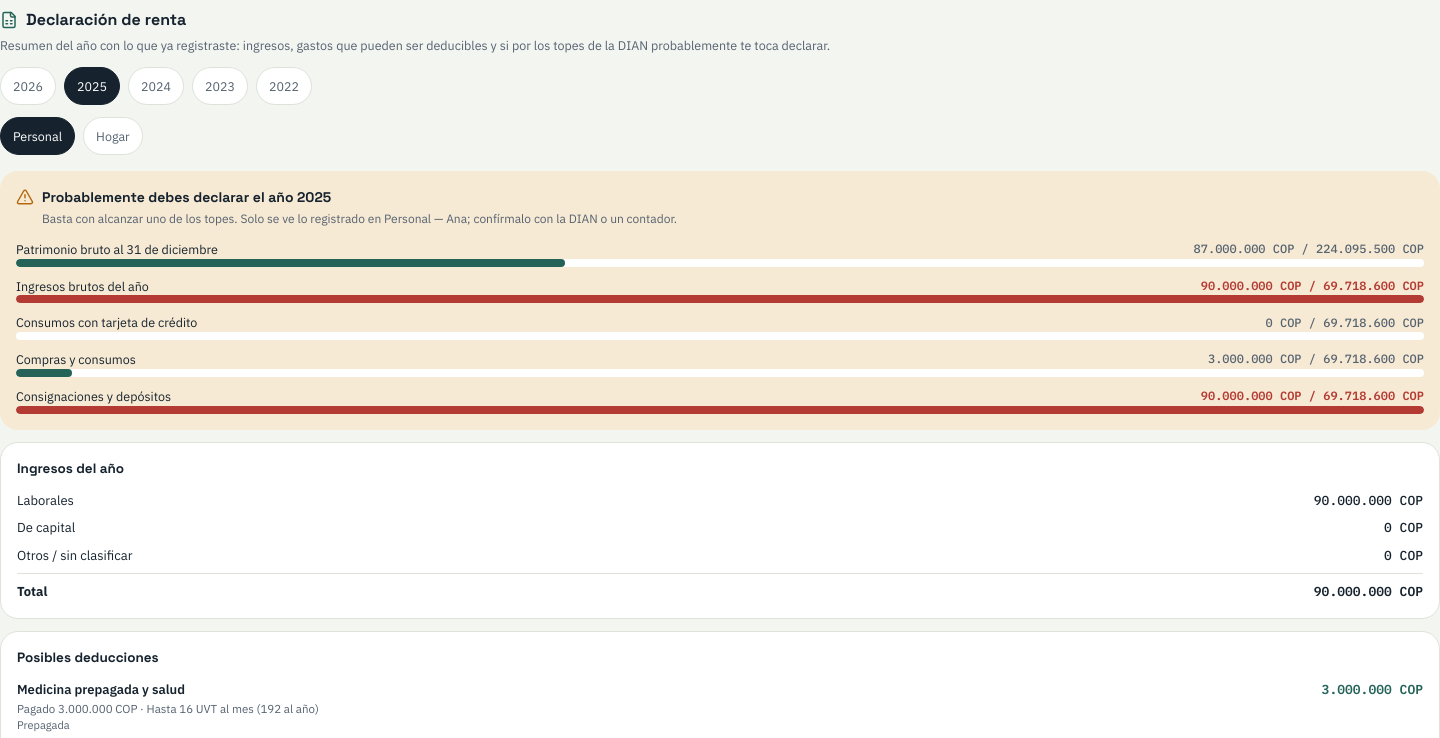
Test case: Renta (prueba de humo) › sin datos del año elegido no obliga
Click the radio button labelled "2022".
click(284, 86)  # box top-left (256, 67), bottom-right (312, 105)
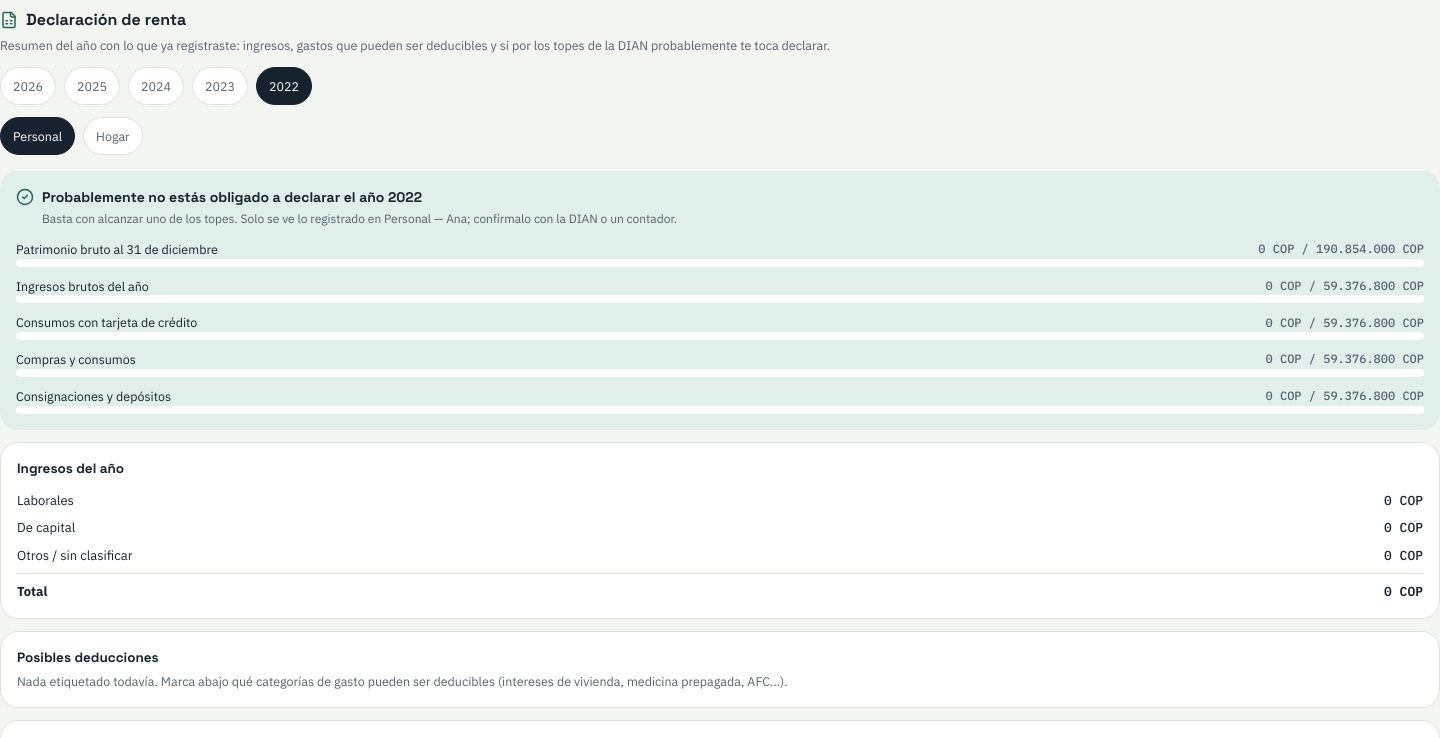
Result: the text "Nada etiquetado todavía" is shown at top-left (17, 673), bottom-right (788, 689)
